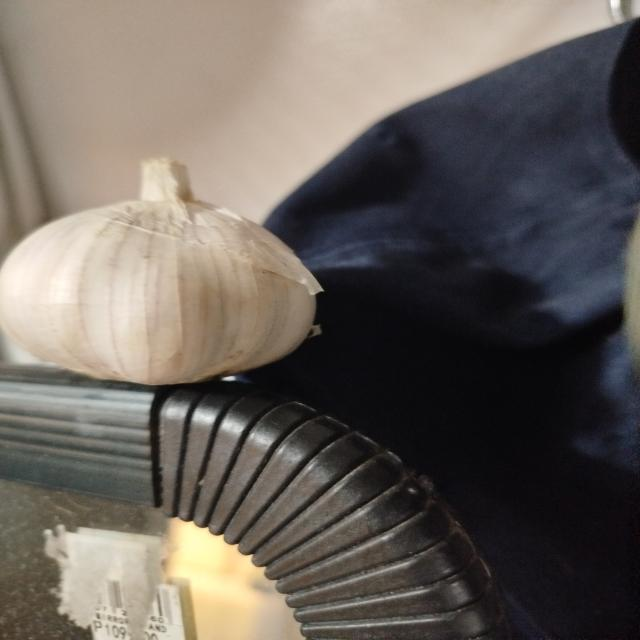garlic: (0, 156, 325, 386)
